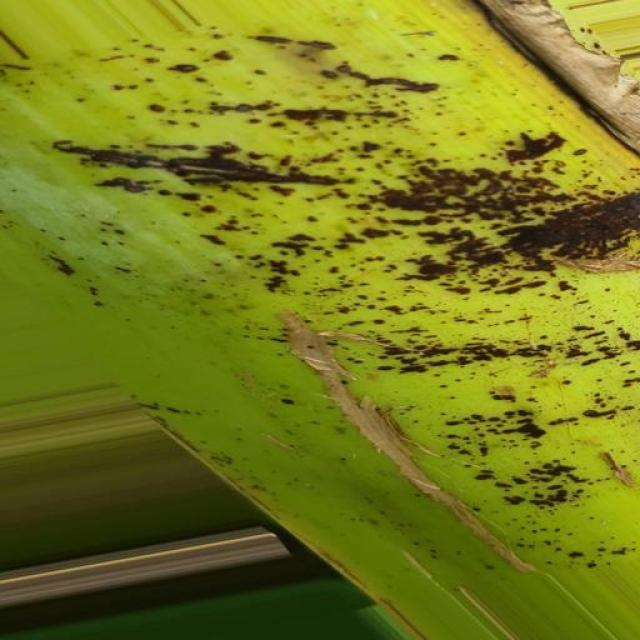Anthracnose: (10, 8, 640, 603)
